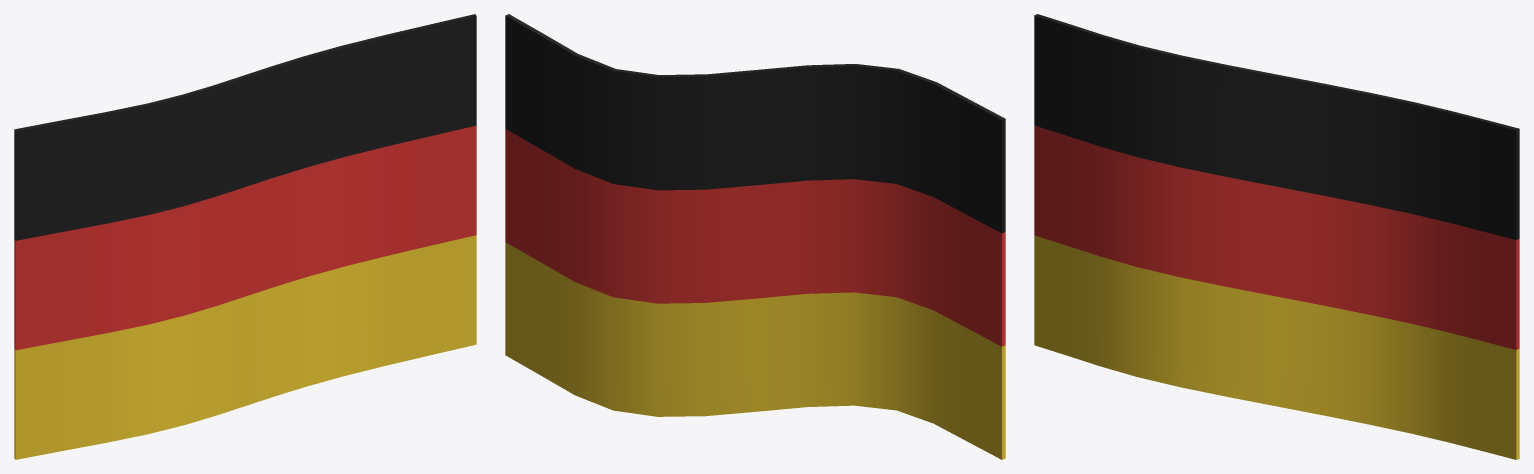
Rendered from flag_germany.glb.
The picture shows the model from 3 angles, left to right: view 1: azimuth 30°, elevation 25°; view 2: azimuth 150°, elevation 25°; view 3: azimuth 330°, elevation 25°; orthographic projection. The views are drawn at different scales.
Visible parts, largest first — view 1: Plane.428; view 2: Plane.428; view 3: Plane.428.
Boxes of the visible parts, left/top/right/bottom form: Plane.428: left=14, top=14, right=476, bottom=459; Plane.428: left=505, top=14, right=1005, bottom=459; Plane.428: left=1034, top=14, right=1519, bottom=459.
Size of the model in its own units: 2.18 by 1.58 by 0.3373.
Materials: 1 (1 with a texture image).
